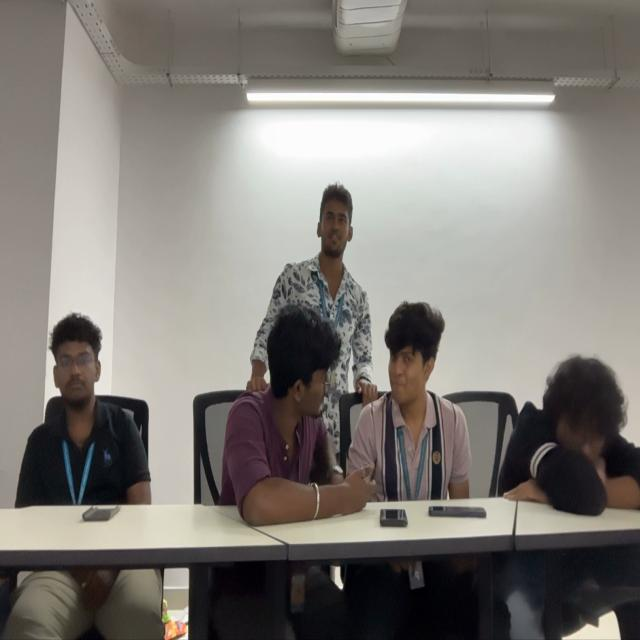Isolated: (15, 310, 152, 503), (498, 352, 639, 512)
socializing: (224, 177, 470, 503)
